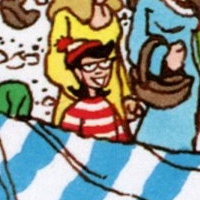wenda: (65, 34, 114, 99)
